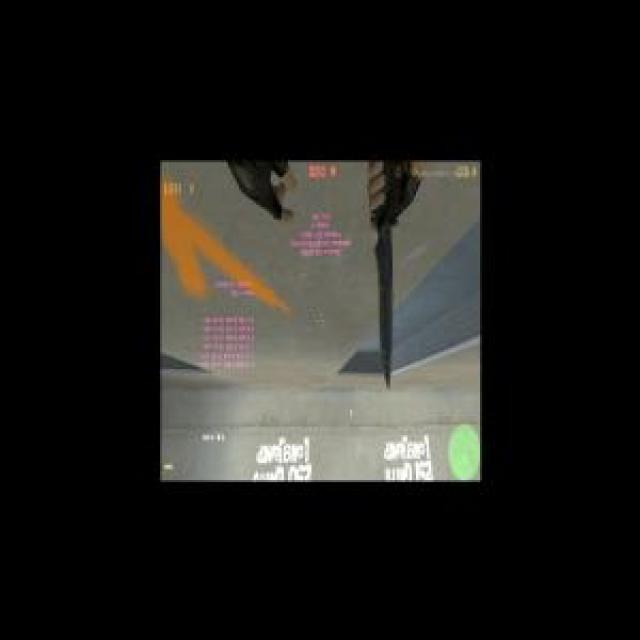knife: (378, 160, 396, 402)
